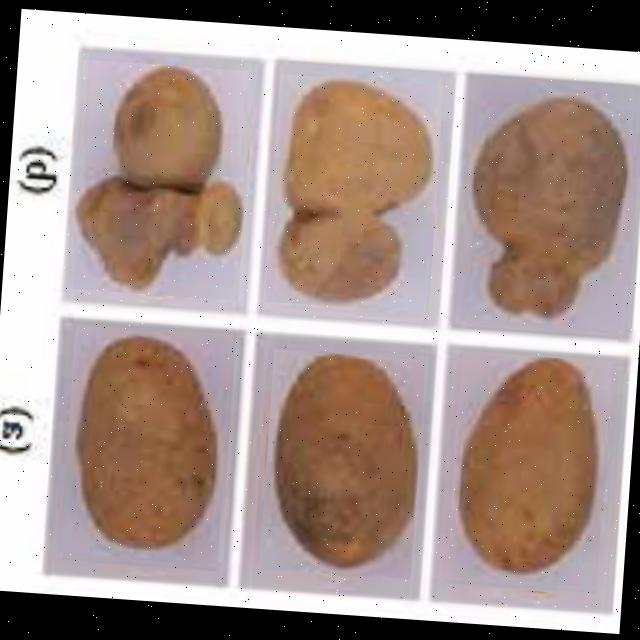Damaged potato: (64, 58, 254, 300), (461, 82, 640, 327), (264, 72, 444, 312)
Potato: (59, 324, 232, 570), (446, 350, 612, 594), (258, 348, 426, 578)
